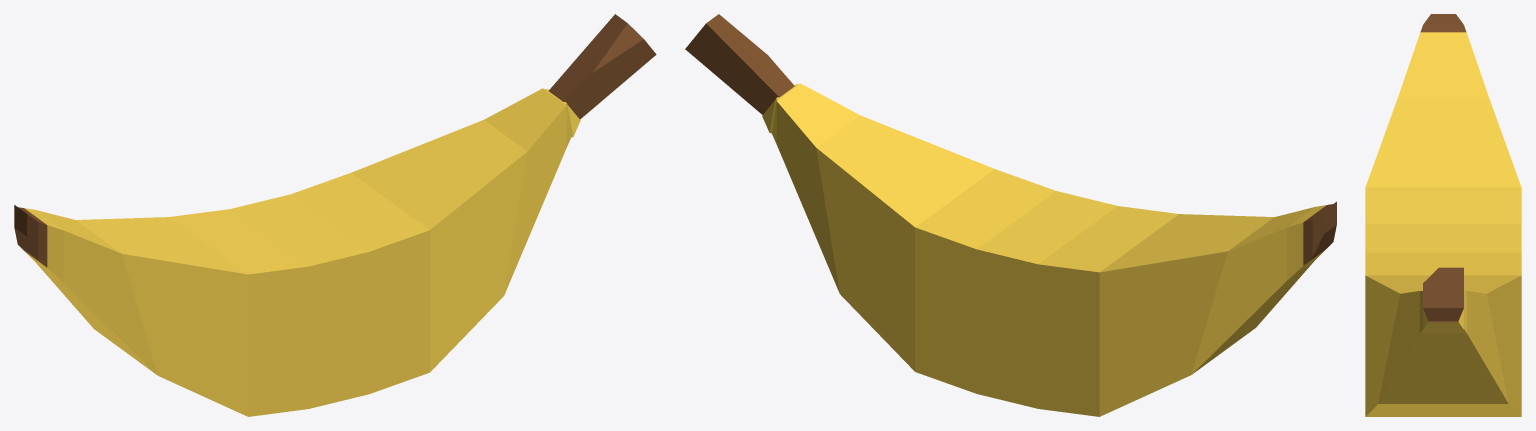
The model's file is BANANA.fbx.
3 views of the same model, side by side, from view 1: azimuth 30°, elevation 25°; view 2: azimuth 150°, elevation 25°; view 3: azimuth 270°, elevation 25° (orthographic). The views are drawn at different scales.
Visible parts, largest first — view 1: Cube.058; view 2: Cube.058; view 3: Cube.058.
Part boxes in pixels (x1,y1,x2,y2): Cube.058: (14, 14, 656, 416); Cube.058: (685, 14, 1336, 416); Cube.058: (1365, 14, 1521, 416).
Size of the model in its own units: 583 by 242 by 127.
